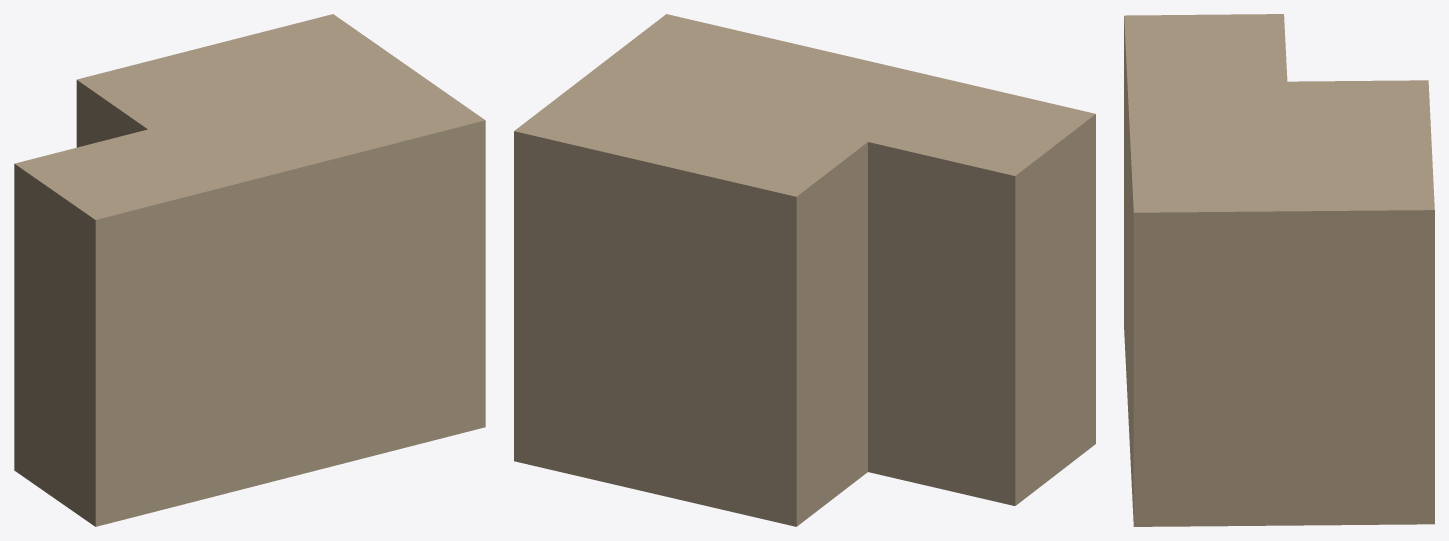
File: bld_99739255.dae
3 renders of one model, left to right at view 1: azimuth 30°, elevation 25°; view 2: azimuth 150°, elevation 25°; view 3: azimuth 270°, elevation 25°, orthographic. The views are drawn at different scales.
Parts seen in each view (by area): view 1: bld_99739255; view 2: bld_99739255; view 3: bld_99739255.
Boxes of the visible parts, bbox=[...] form: bld_99739255: bbox=[14, 14, 485, 526]; bld_99739255: bbox=[514, 14, 1095, 526]; bld_99739255: bbox=[1124, 14, 1434, 526].
Bounding box in the file's own units: 10.85 × 7.17 × 8.
